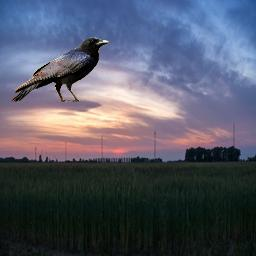Crow: (11, 36, 109, 102)
